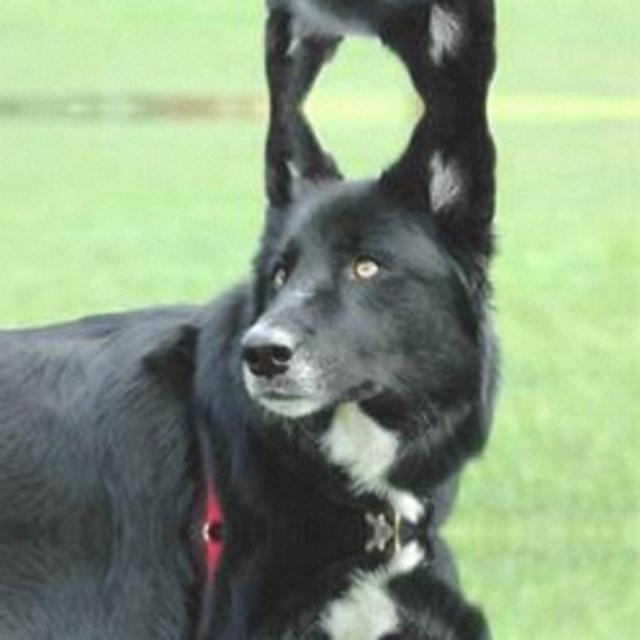dog: (222, 108, 508, 494), (222, 0, 509, 106), (222, 568, 509, 640)
